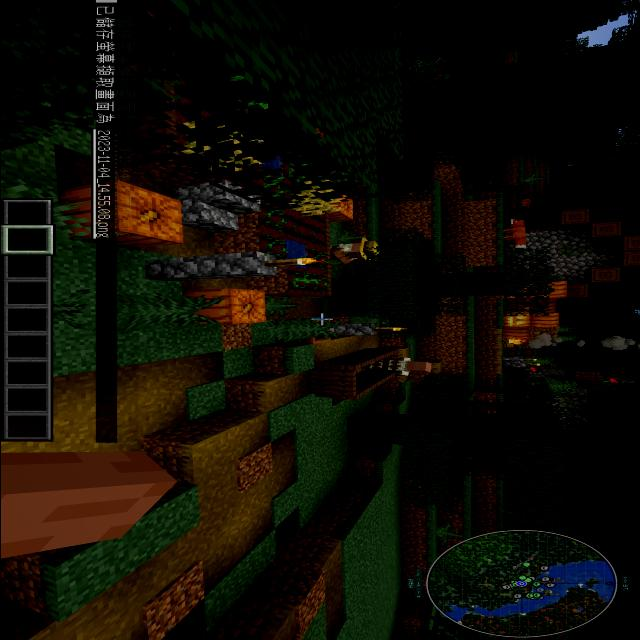Fox: (494, 215, 542, 253), (508, 194, 538, 212)
